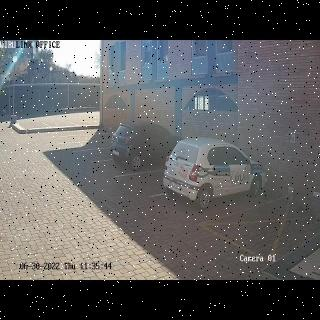car: (162, 138, 267, 210), (109, 122, 181, 171)
